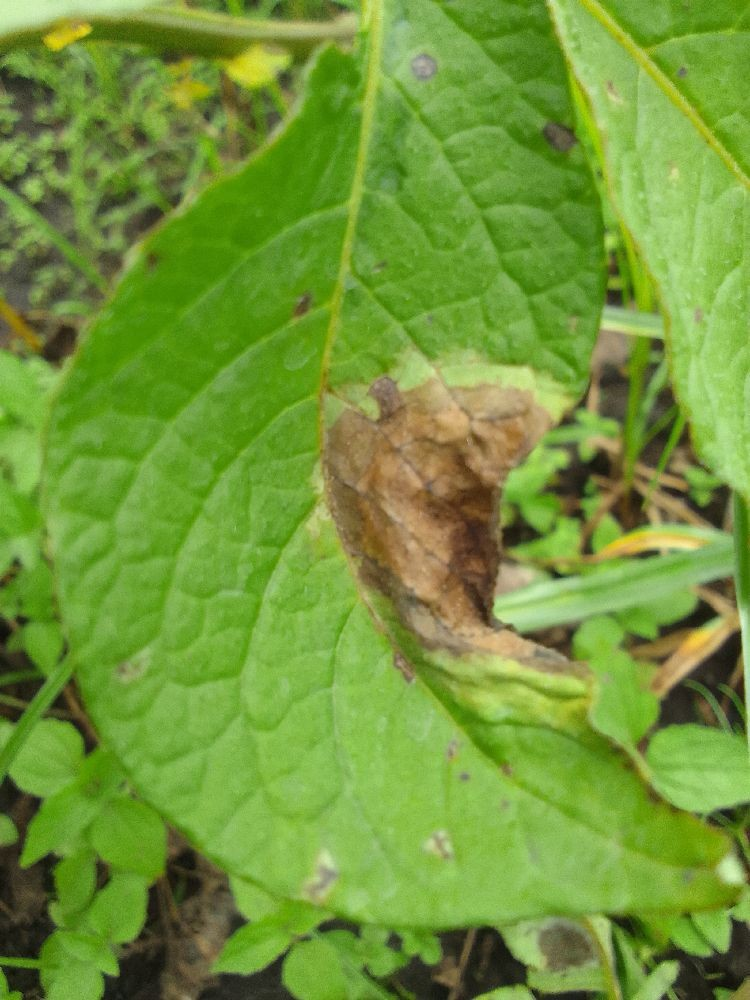late_blight: (302, 311, 749, 697), (0, 89, 225, 399), (79, 799, 321, 1000), (369, 909, 546, 1000)
